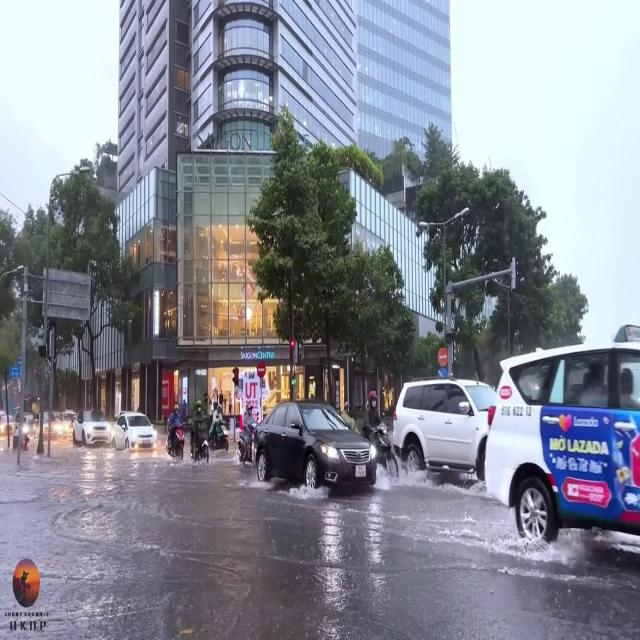bien_trang: (354, 466, 366, 476)
